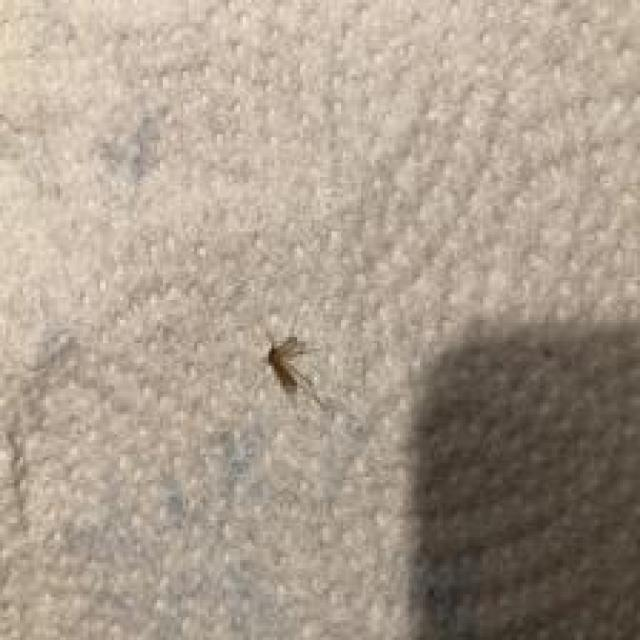Culex: (263, 328, 323, 408)
